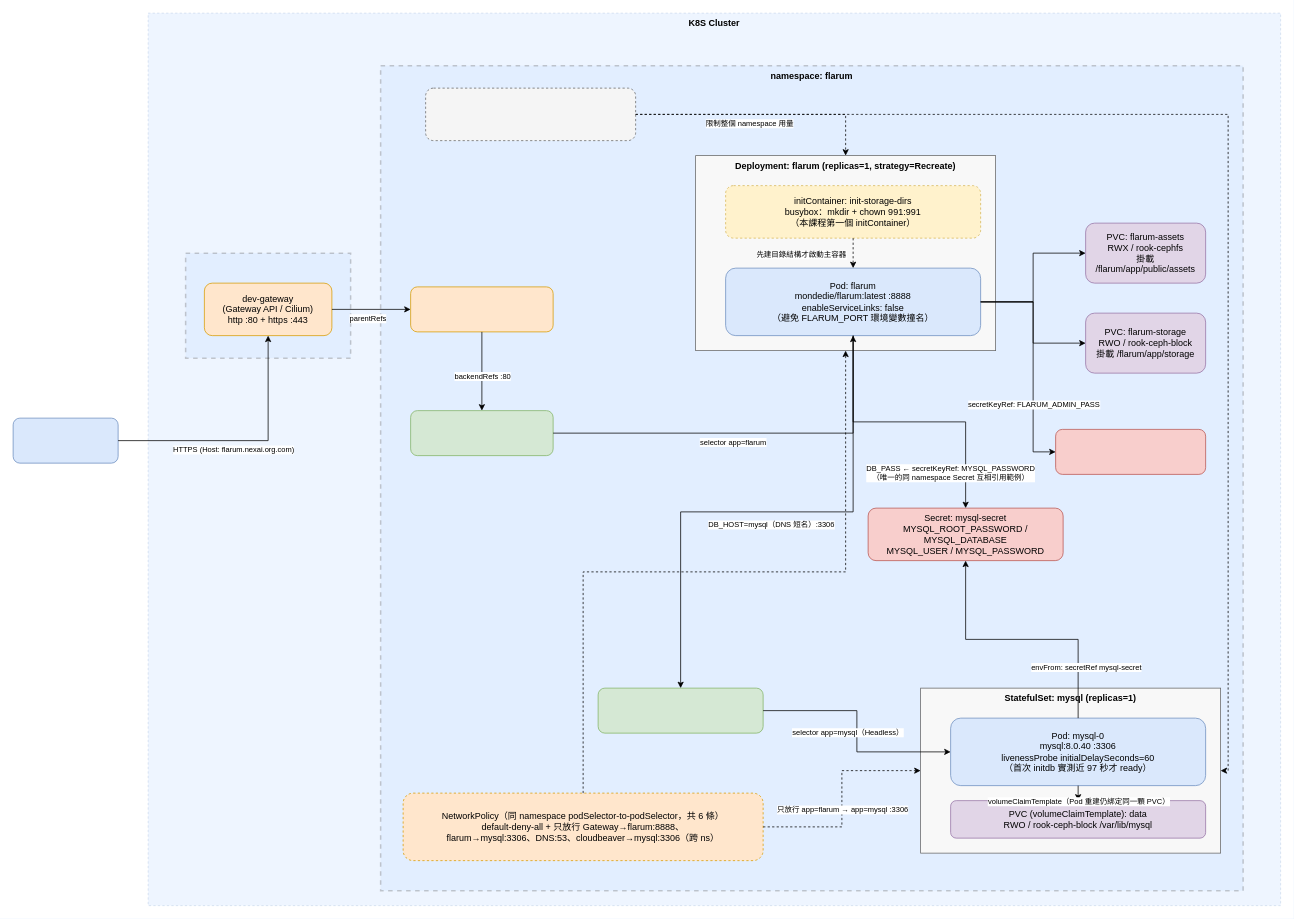
This 1294x919 diagram has some shape labels left out. Here are the shapes that lost their labels. From the top down, the box of each, then its label:
(425, 87, 636, 141): ResourceQuota + LimitRange (namespace 資源治理，max 要同時容納 flarum + mysql 兩邊的 limits)
(184, 252, 351, 358): namespace: default (shared-infra)
(410, 286, 553, 332): HTTPRoute: flarum host: flarum.nexai.org.com
(12, 417, 118, 463): 學員瀏覽器
(410, 410, 553, 456): Service: flarum ClusterIP :80 -> :8888
(1055, 429, 1206, 474): Secret: flarum-secret FLARUM_ADMIN_PASS
(597, 687, 763, 733): Service: mysql (Headless) clusterIP: None :3306
